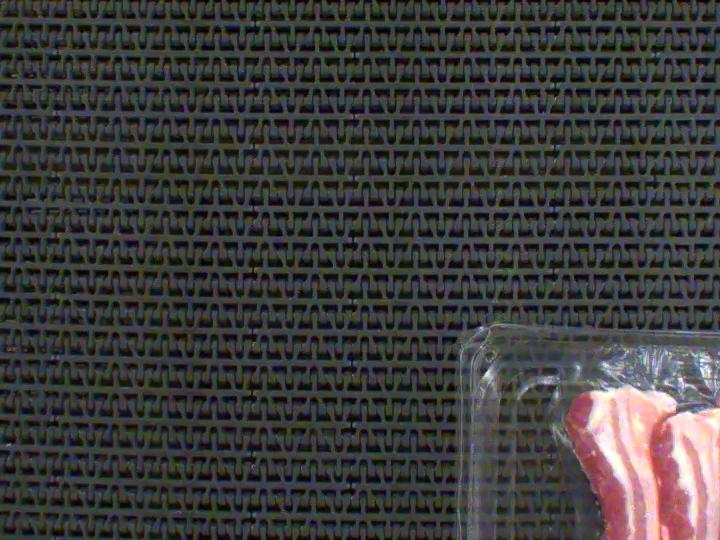unsealed: (489, 332, 720, 495)
